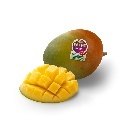mango: (43, 29, 108, 80), (19, 64, 81, 103)
